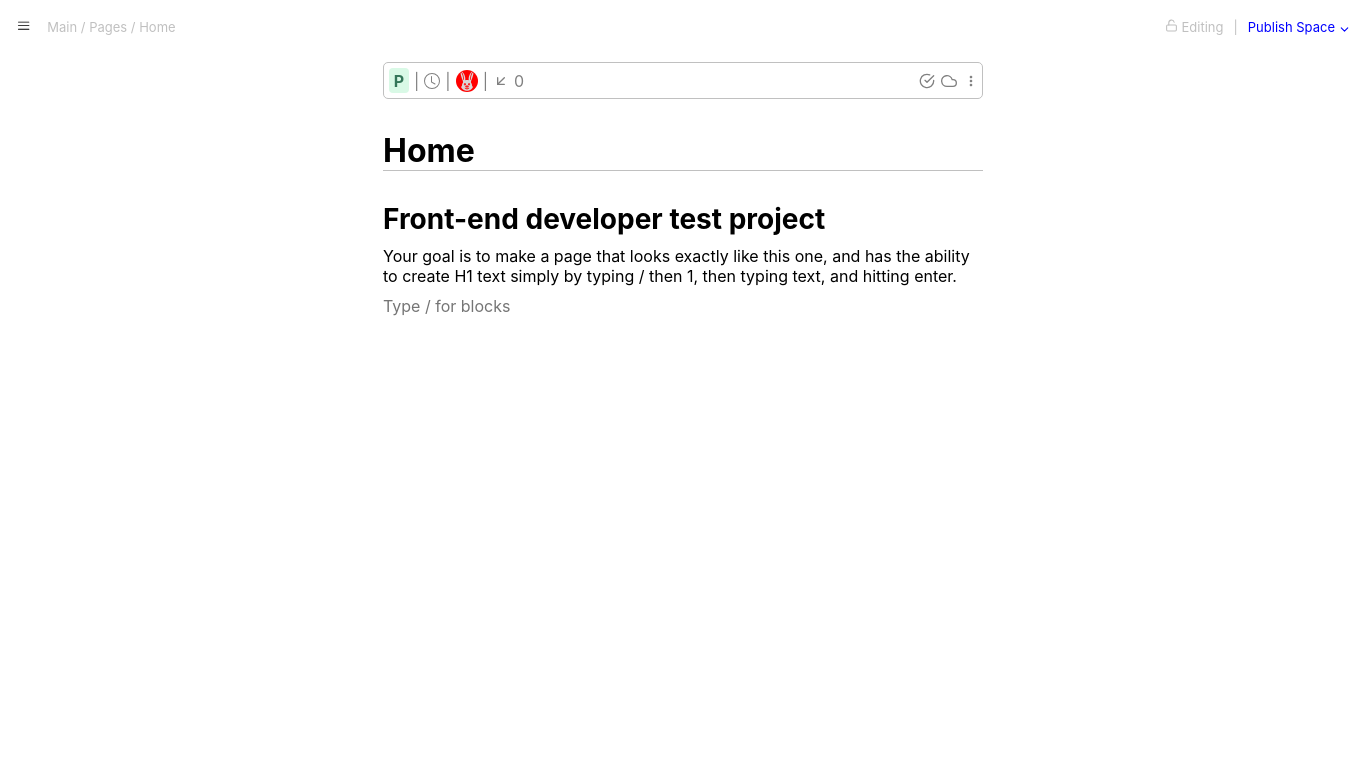
it: Integration tests for Elements: › By filtering "H1" Other options shouldn' be available
The image size is (1366, 780).
Press / in the field with test id "newElementInput", box [383,296,983,316]
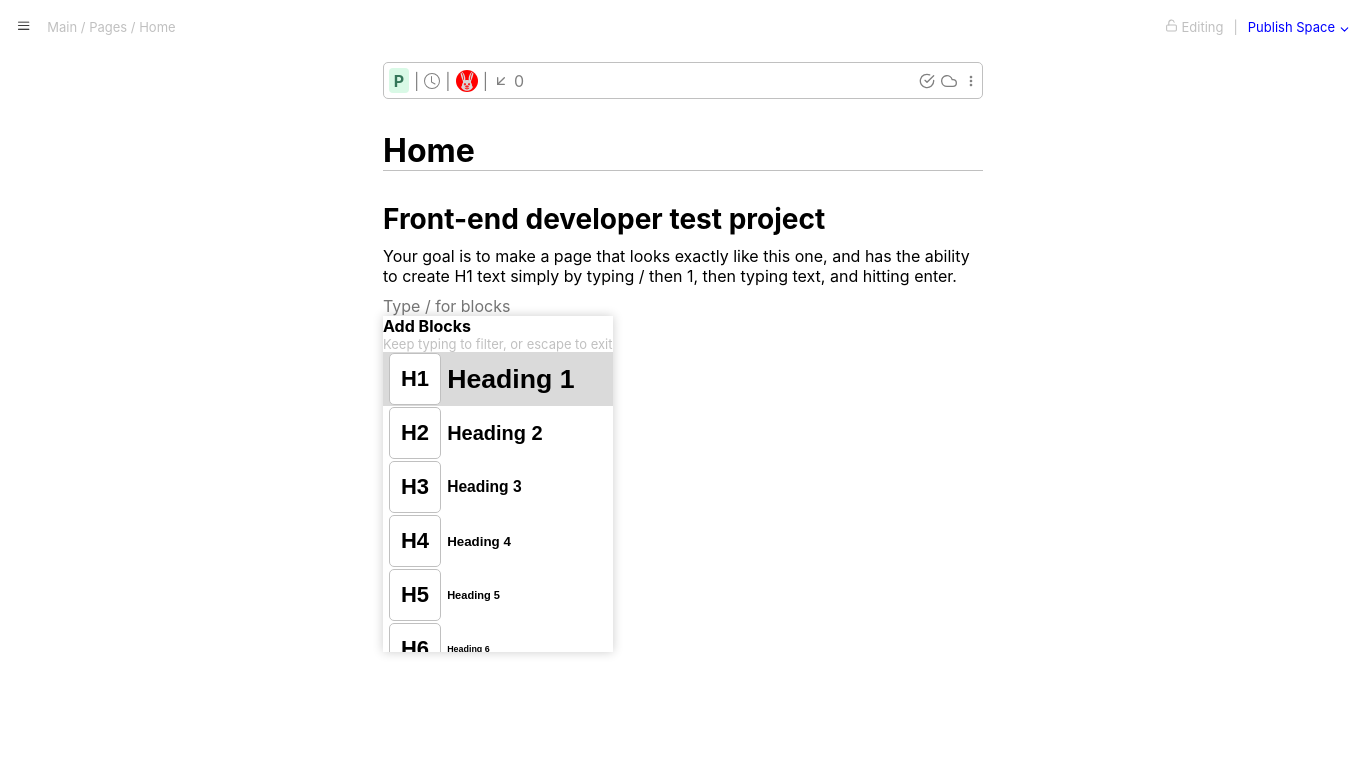
Type "/h1" into the field with test id "newElementInput".
click(683, 306); type("/h1")  # box [383,296,983,316]
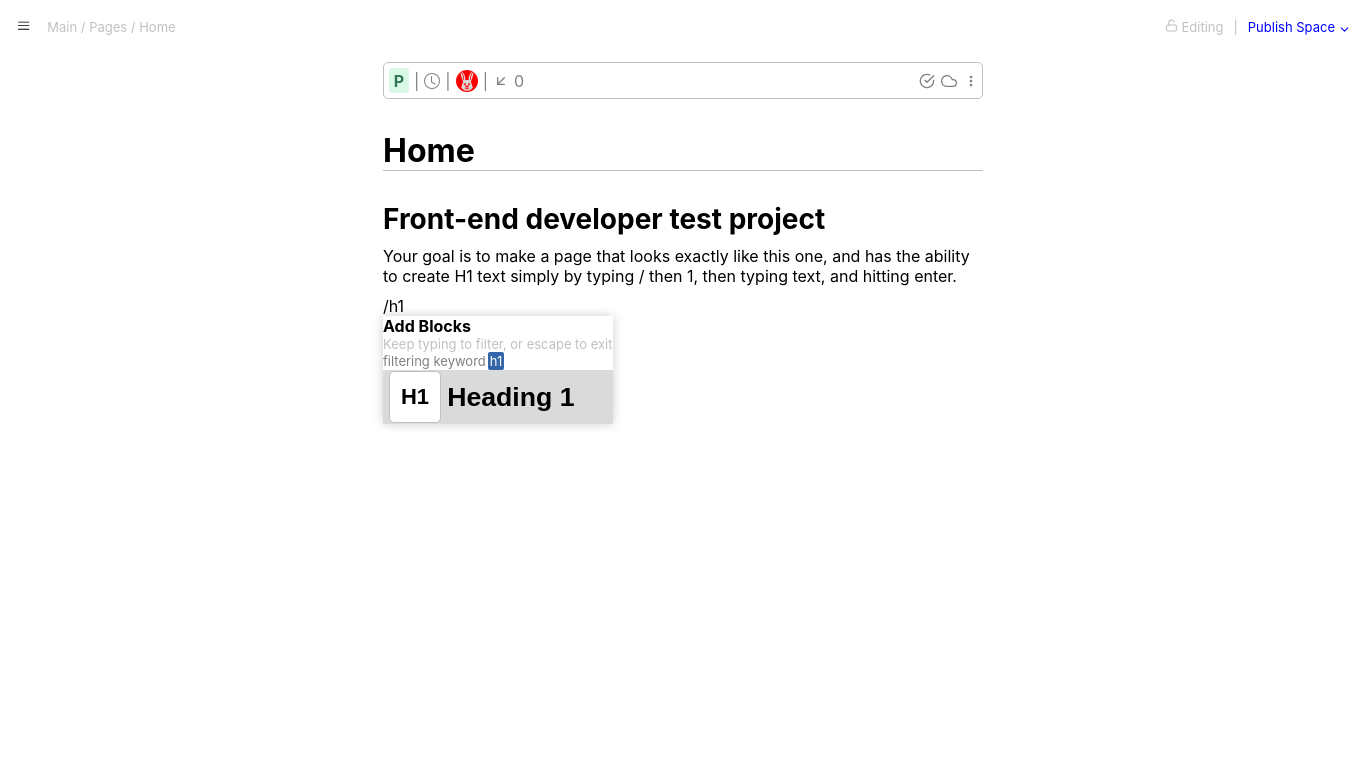
Check: the element with test id "selector" shows "h1", box [490,353,502,369]
Check: the element with test id "selector" no longer shows "H2", box [383,316,612,424]
